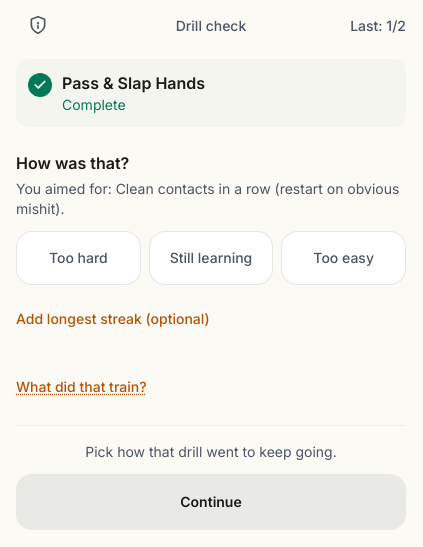
DrillCheckScreen rung reflection (D177) › enables Continue via the chip alone when the reflection is never revealed
The image size is (423, 547).
Expected: the element with test id "per-drill-capture" is shown, [16, 151, 406, 341]
Click the radio button labelled "Still learning".
click(211, 258)  # box [149, 231, 273, 285]
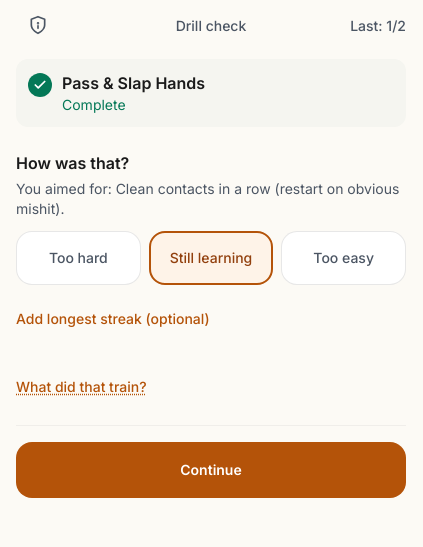
Expected: the button with test id "drill-check-reflection-trigger" is shown, [16, 365, 146, 409]
Now the button "Continue" is enabled, box [16, 442, 406, 498]
